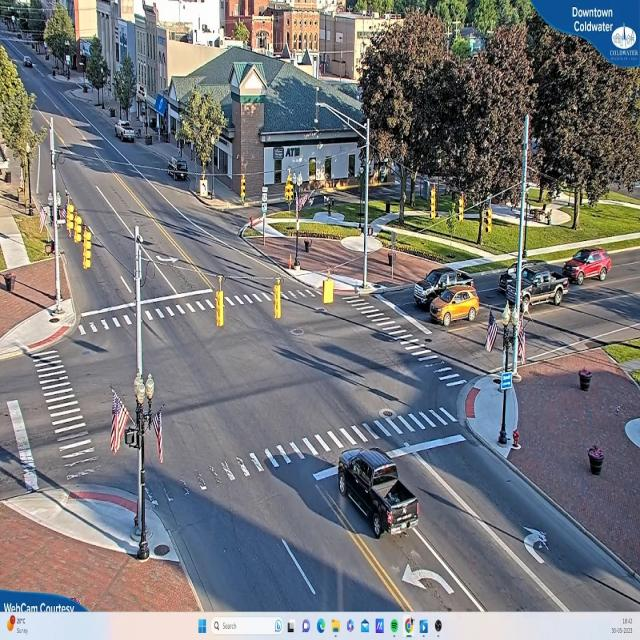car: (336, 449, 419, 540), (499, 266, 568, 311), (412, 266, 475, 307), (430, 290, 480, 326), (562, 250, 611, 284)
